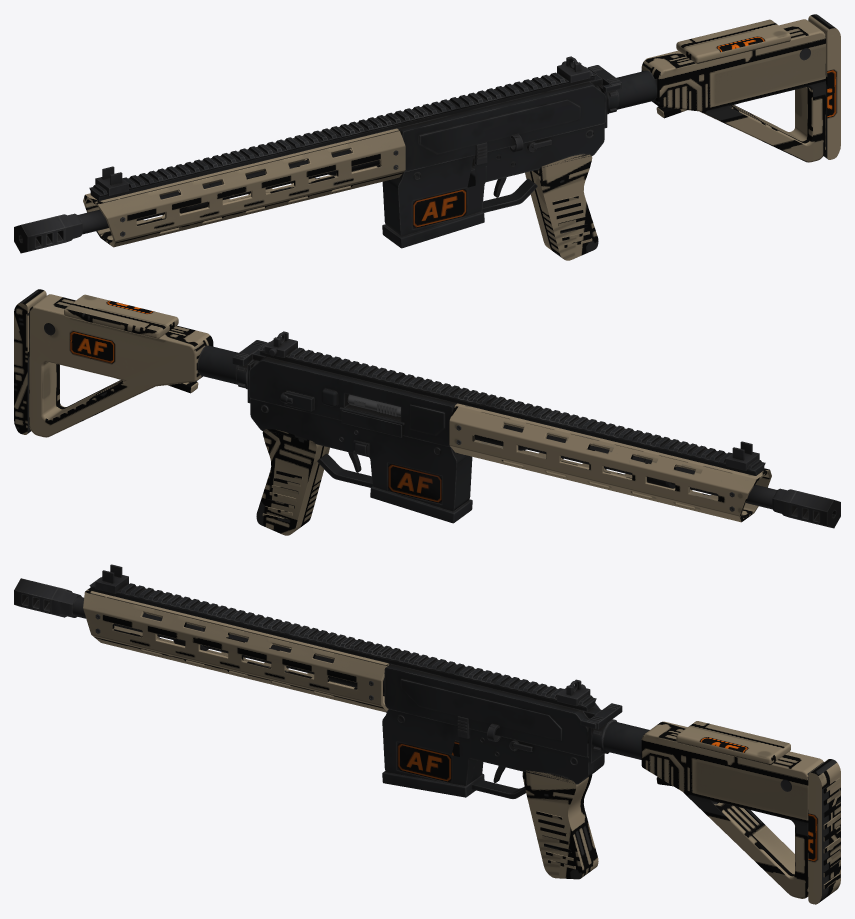
The model's file is af7_vanguard_lod1.fbx.
3 views of the same model, one above another, from view 1: azimuth 30°, elevation 25°; view 2: azimuth 150°, elevation 25°; view 3: azimuth 330°, elevation 25° (orthographic).
Visible parts, largest first — view 1: AF7_LOD_1; view 2: AF7_LOD_1; view 3: AF7_LOD_1.
Boxes of the visible parts, x1,y1,x2,y2 form: AF7_LOD_1: (14, 14, 840, 260); AF7_LOD_1: (14, 289, 840, 535); AF7_LOD_1: (14, 564, 840, 904).
Size of the model in its own units: 88.82 by 5.22 by 20.24.
